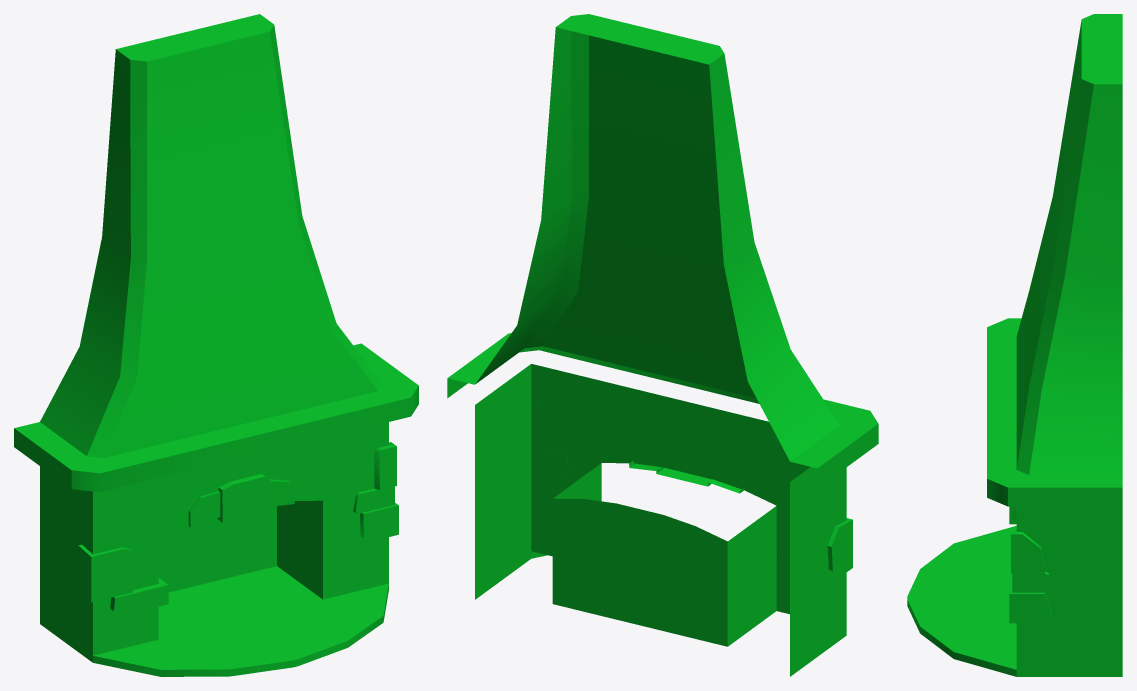
File: ModelPropFireplace.FBX
3 views of the same model, side by side, from view 1: azimuth 30°, elevation 25°; view 2: azimuth 150°, elevation 25°; view 3: azimuth 270°, elevation 25° (orthographic). The views are drawn at different scales.
Parts seen in each view (by area): view 1: Cheminee, ChemineeBrique; view 2: Cheminee, ChemineeBrique; view 3: Cheminee, ChemineeBrique.
Part boxes in pixels (x1,y1,x2,y2): Cheminee: [14, 14, 418, 676]; ChemineeBrique: [71, 442, 398, 616]; Cheminee: [447, 14, 878, 676]; ChemineeBrique: [561, 454, 852, 578]; Cheminee: [907, 14, 1122, 676]; ChemineeBrique: [1009, 506, 1052, 623].
Bounding box in the file's own units: 270 × 414 × 146.
